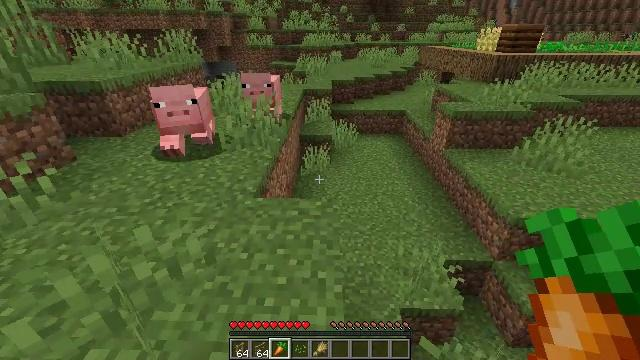pig: (150, 88, 218, 155), (242, 72, 283, 121)
